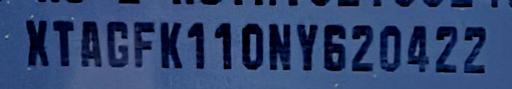letter: (236, 21, 266, 72), (459, 23, 489, 74), (20, 16, 50, 65), (102, 19, 132, 68), (400, 22, 430, 71), (76, 19, 104, 68), (157, 20, 185, 69), (294, 22, 322, 71), (50, 17, 76, 66), (322, 20, 348, 69), (266, 22, 292, 71), (376, 24, 402, 73), (432, 24, 458, 73), (185, 20, 209, 69), (350, 23, 374, 72), (212, 20, 234, 71), (132, 22, 156, 67)
